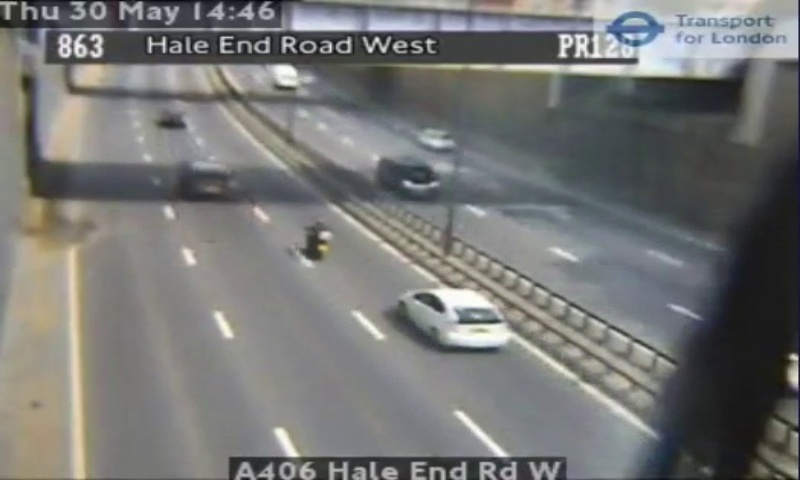car: (401, 289, 508, 348)
motorcycle: (305, 218, 334, 257)
